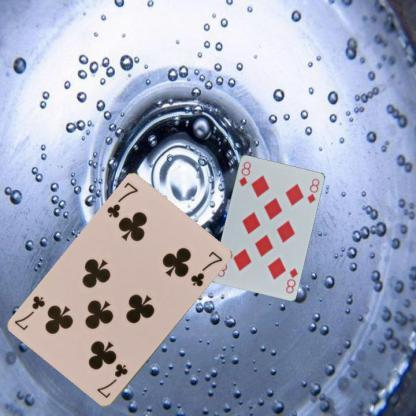7c: (94, 361, 130, 400), (104, 180, 139, 220)
8d: (236, 159, 252, 188), (283, 265, 299, 294)
